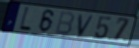5: (94, 15, 114, 41)
6: (37, 10, 56, 34)
7: (112, 17, 132, 43)
B: (53, 11, 75, 37)
L: (18, 6, 33, 33)
V: (77, 14, 96, 38)
